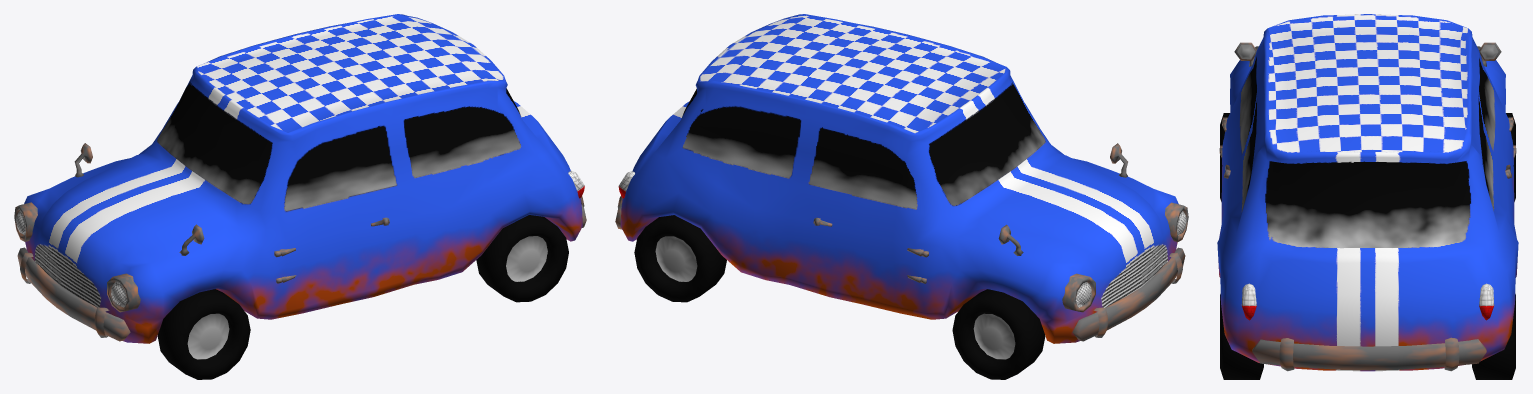
File: lowpolycarblue.glb
3 renders of one model, left to right at view 1: azimuth 30°, elevation 25°; view 2: azimuth 150°, elevation 25°; view 3: azimuth 270°, elevation 25°, orthographic. The views are drawn at different scales.
Parts seen in each view (by area): view 1: cartexture, lowpolywheel.001, lowpolywheel.002, Cube.004, lightinfront, RETROVISEURLOW; view 2: cartexture, lowpolywheel.004, lowpolywheel.003, Cube.004, lightinfront, RETROVISEURLOW; view 3: cartexture, Cube.005, lowpolywheel.002, lowpolywheel.003, backlight, RETROVISEURLOW, Cube.003.
Part boxes in pixels (x1,y1,x2,y2): cartexture: [24, 14, 582, 343]; lowpolywheel.001: [157, 289, 250, 379]; lowpolywheel.002: [476, 215, 568, 302]; Cube.004: [17, 247, 130, 341]; lightinfront: [14, 202, 140, 312]; RETROVISEURLOW: [74, 143, 204, 255]; cartexture: [620, 14, 1178, 343]; lowpolywheel.004: [952, 289, 1045, 379]; lowpolywheel.003: [634, 215, 726, 302]; Cube.004: [1072, 247, 1185, 341]; lightinfront: [1062, 202, 1188, 312]; RETROVISEURLOW: [998, 143, 1127, 255]; cartexture: [1217, 14, 1518, 371]; Cube.005: [1252, 337, 1486, 371]; lowpolywheel.002: [1220, 294, 1263, 379]; lowpolywheel.003: [1472, 294, 1515, 379]; backlight: [1241, 283, 1494, 320]; RETROVISEURLOW: [1234, 42, 1501, 66]; Cube.003: [1219, 117, 1516, 178].
Bounding box in the file's own units: 8.13 × 3.46 × 3.93.
1 material, 1 textured.
